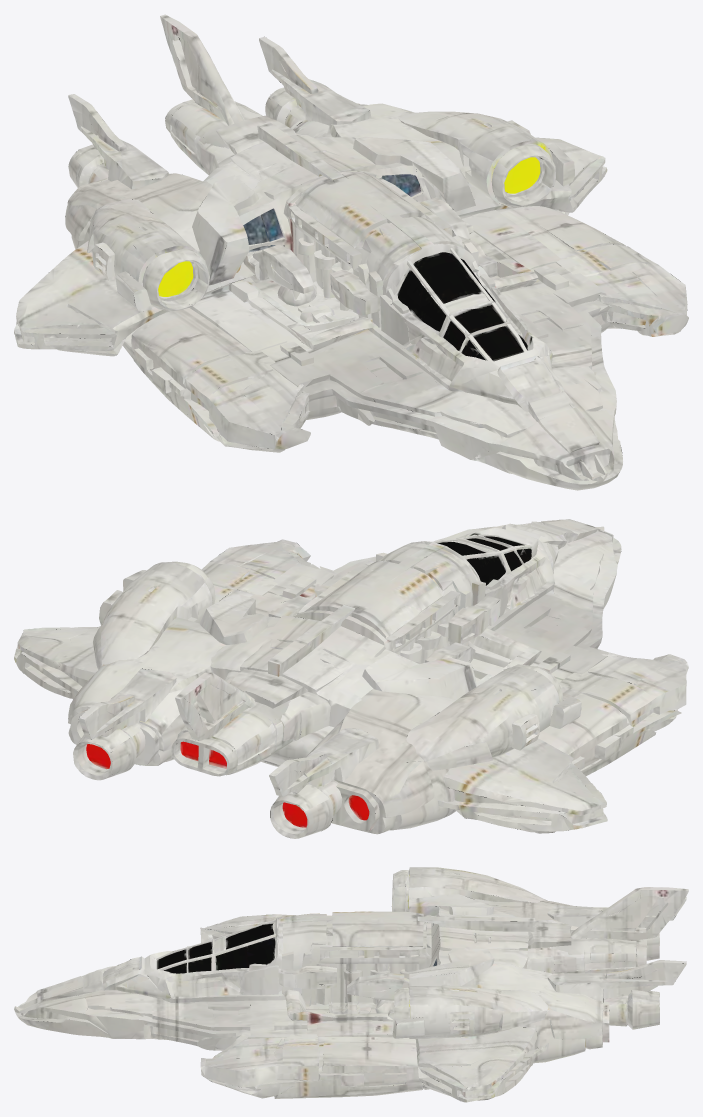
Rendered from player.glb.
The picture shows the model from 3 angles, top to bottom: view 1: azimuth 30°, elevation 25°; view 2: azimuth 150°, elevation 25°; view 3: azimuth 270°, elevation 25°; orthographic projection. The views are drawn at different scales.
Visible parts, largest first — view 1: Spaceship_cool_AI1.001_gameasset_Spaceship_cool_AI1.001_game; view 2: Spaceship_cool_AI1.001_gameasset_Spaceship_cool_AI1.001_game; view 3: Spaceship_cool_AI1.001_gameasset_Spaceship_cool_AI1.001_game.
Part boxes in pixels (<box>): Spaceship_cool_AI1.001_gameasset_Spaceship_cool_AI1.001_game: <box>14,14,688,490</box>; Spaceship_cool_AI1.001_gameasset_Spaceship_cool_AI1.001_game: <box>14,519,688,838</box>; Spaceship_cool_AI1.001_gameasset_Spaceship_cool_AI1.001_game: <box>14,867,688,1102</box>.
Size of the model in its own units: 405 by 131 by 514.
Materials: 1 (1 with a texture image).
